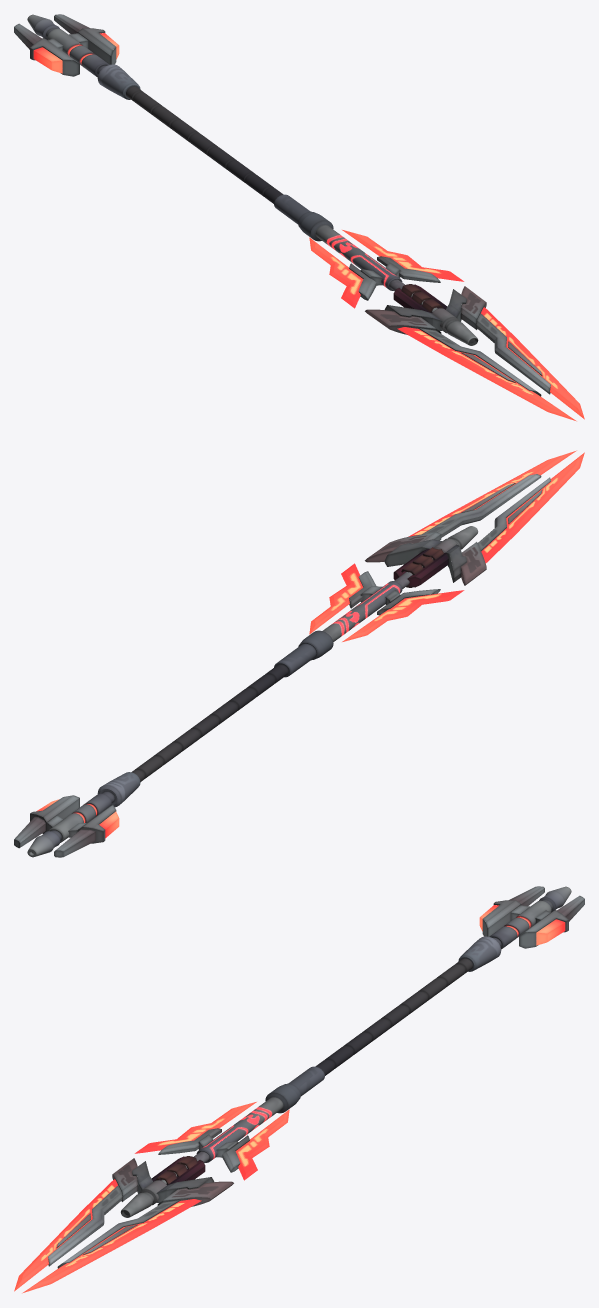
The model's file is lance.glb.
3 views of the same model, one above another, from view 1: azimuth 30°, elevation 25°; view 2: azimuth 150°, elevation 25°; view 3: azimuth 330°, elevation 25° (orthographic).
Visible parts, largest first — view 1: Vulcan_Scarlet_Lance; view 2: Vulcan_Scarlet_Lance; view 3: Vulcan_Scarlet_Lance.
Part boxes in pixels (bbox=[...]): Vulcan_Scarlet_Lance: bbox=[14, 14, 584, 421]; Vulcan_Scarlet_Lance: bbox=[14, 450, 584, 857]; Vulcan_Scarlet_Lance: bbox=[14, 886, 584, 1293].
Bounding box in the file's own units: 0.464 × 0.0883 × 4.01.
Materials: 1 (1 with a texture image).
